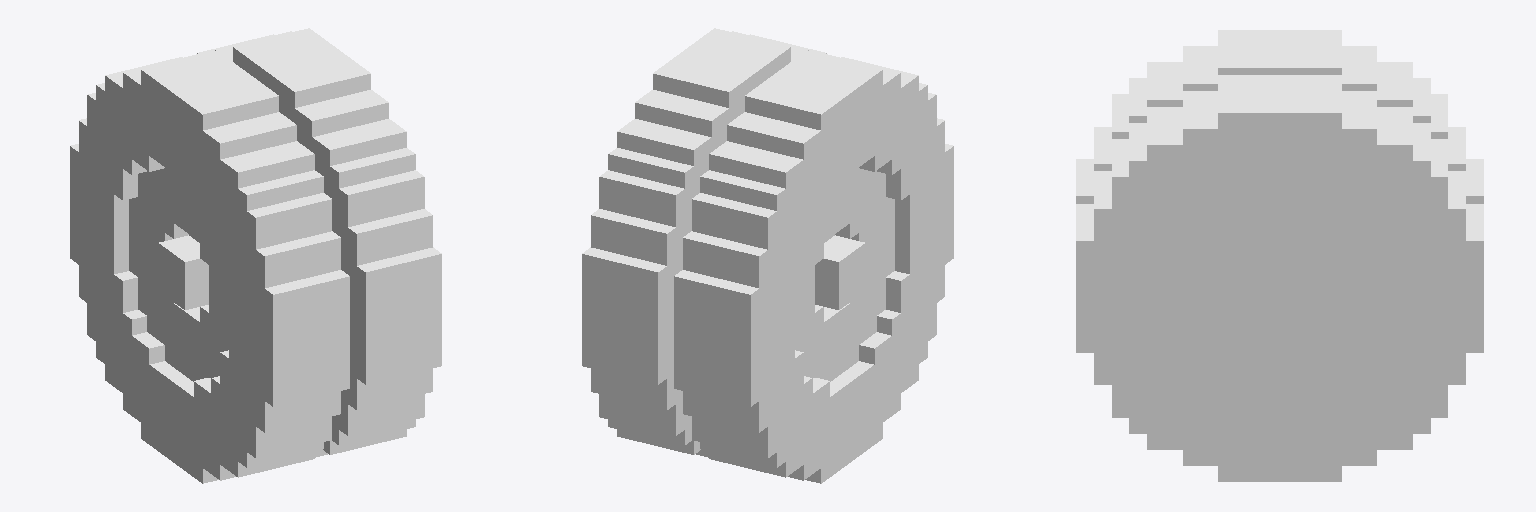
The model's file is zil-130-1.obj.
3 views of the same model, side by side, from view 1: azimuth 30°, elevation 25°; view 2: azimuth 150°, elevation 25°; view 3: azimuth 270°, elevation 25° (orthographic).
Visible parts, largest first — view 1: object 1; view 2: object 1; view 3: object 1.
Boxes of the visible parts, x1,y1,x2,y2 form: object 1: [70, 28, 441, 483]; object 1: [582, 28, 953, 483]; object 1: [1076, 30, 1483, 481].
Size of the model in its own units: 1.1 by 2.3 by 2.3.